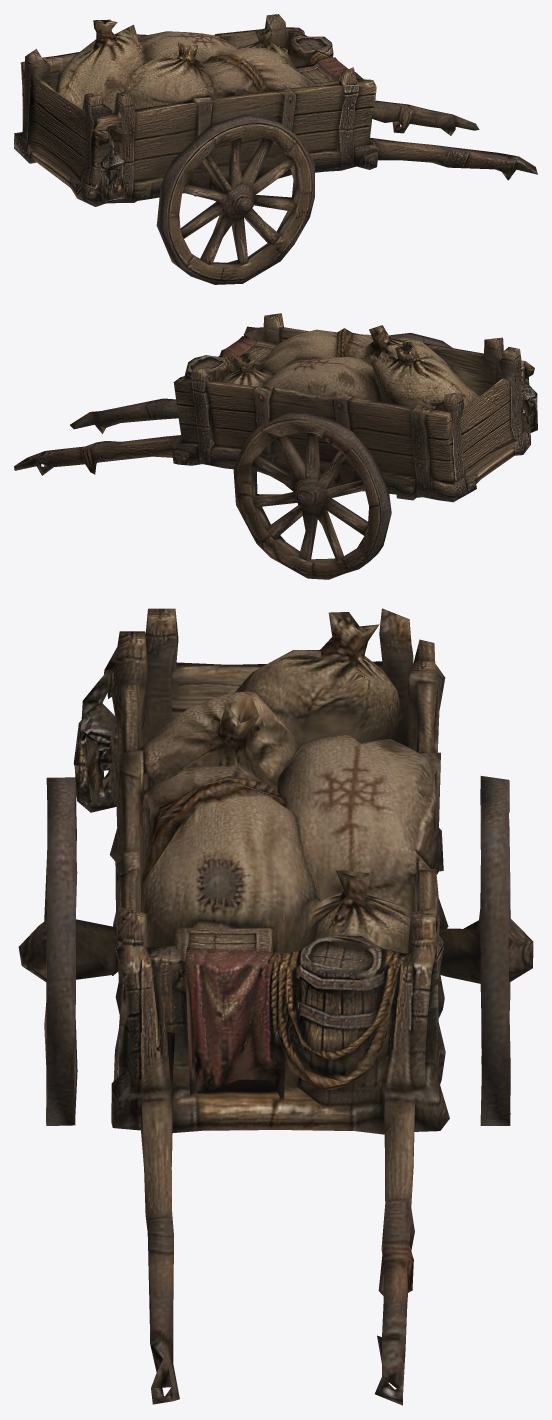
Rendered from cart.glb.
3 renders of one model, top to bottom at view 1: azimuth 30°, elevation 25°; view 2: azimuth 150°, elevation 25°; view 3: azimuth 270°, elevation 25°, orthographic. The views are drawn at different scales.
Size of the model in its own units: 1 by 0.4649 by 0.4917.
1 material, 1 textured.
